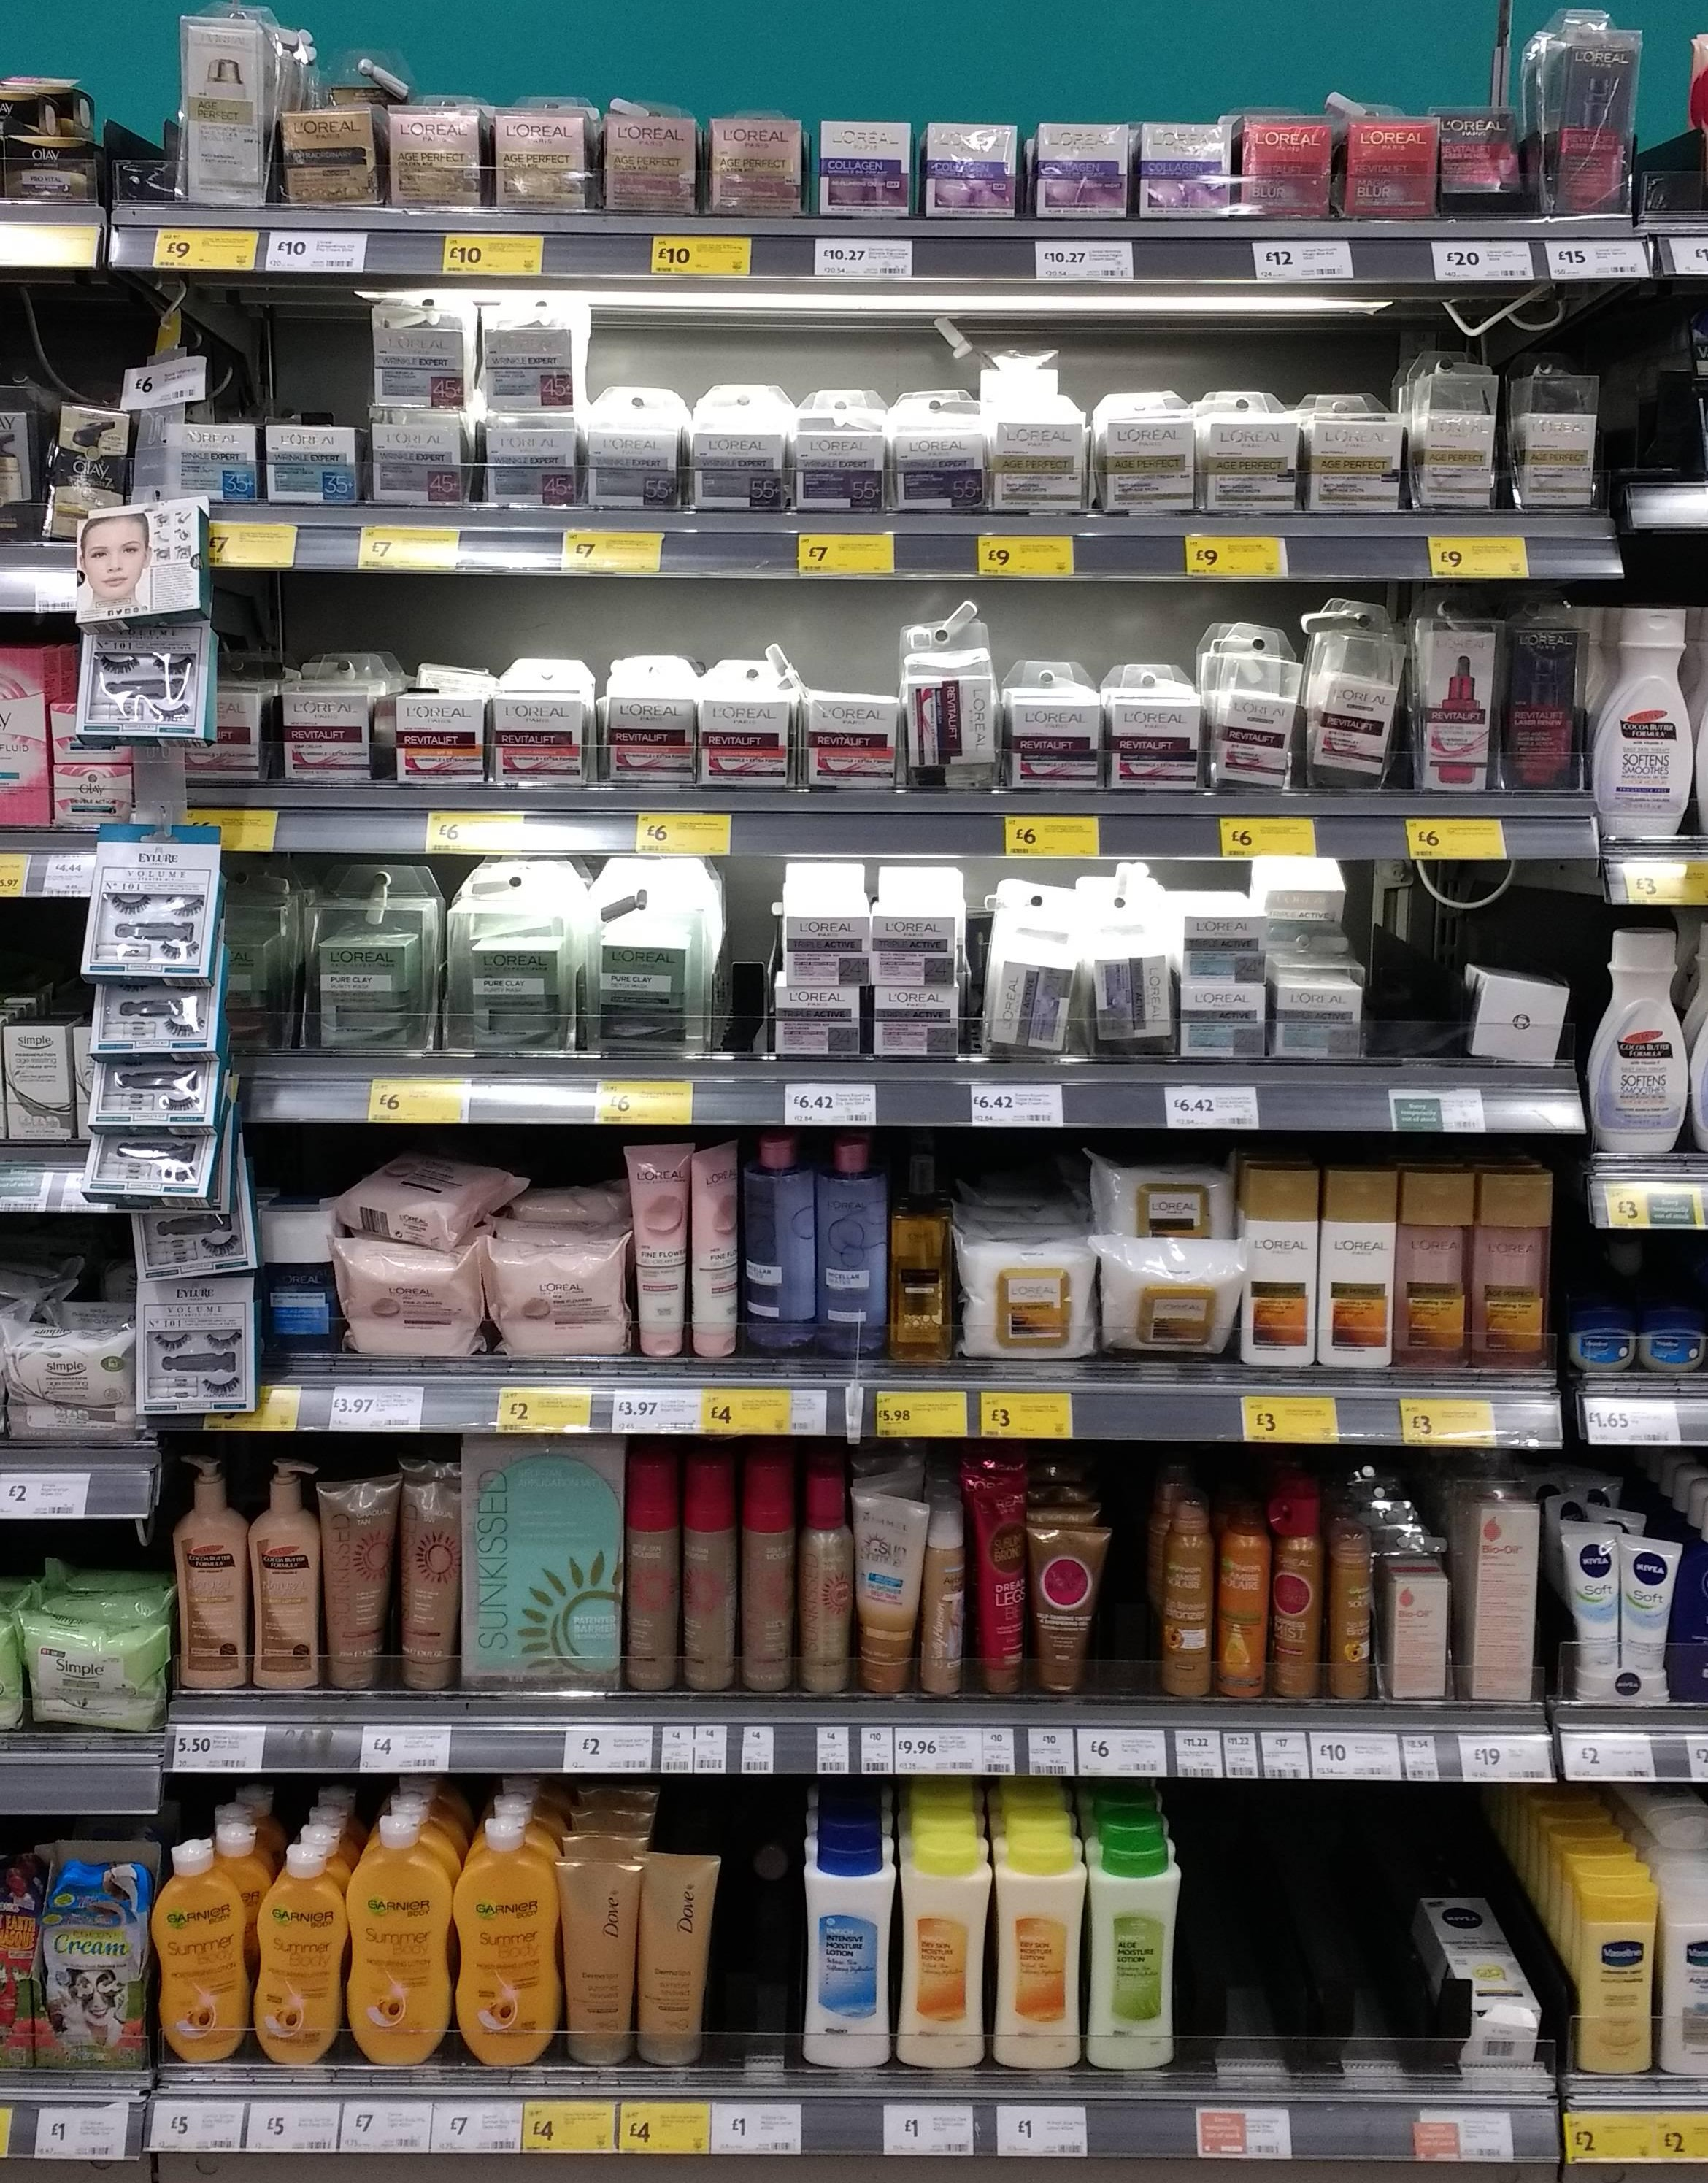empty: (1187, 1823, 1410, 2047), (734, 1798, 788, 2032), (1371, 890, 1444, 1047), (1111, 1467, 1145, 1685)
misalignment: (1423, 1892, 1552, 2048), (907, 656, 1001, 773)
